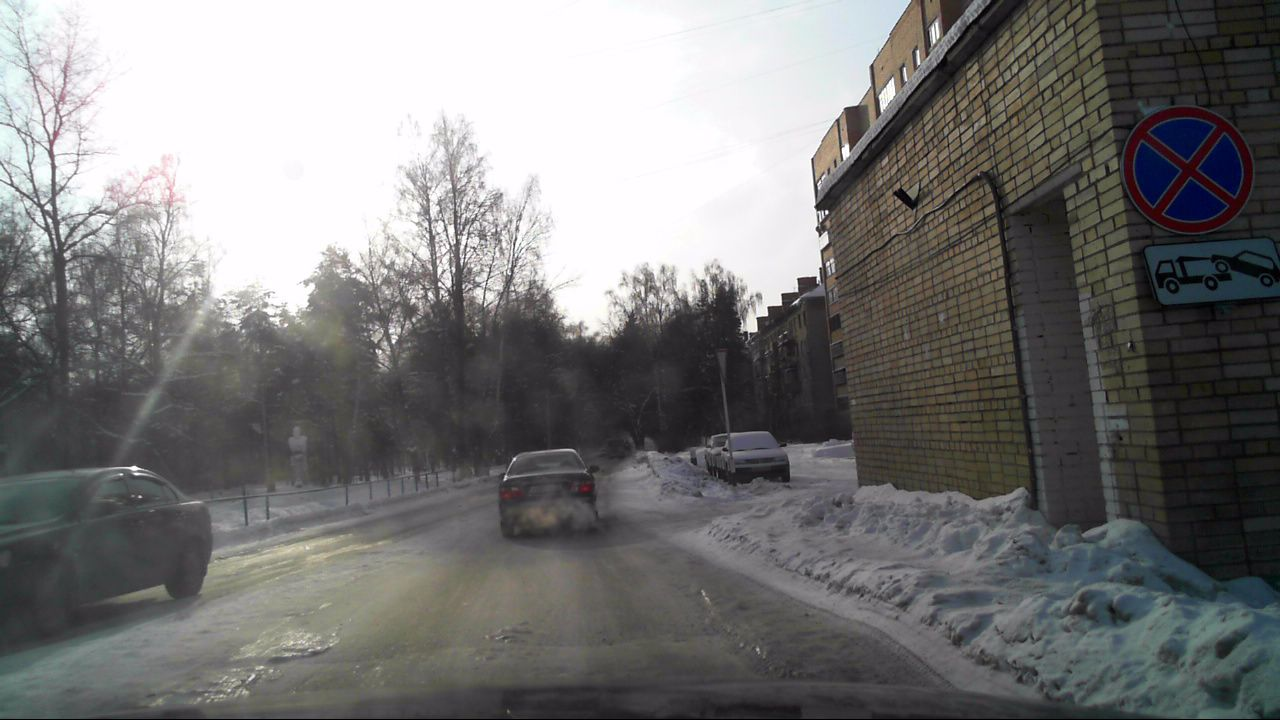No Parking: (1116, 106, 1255, 236)
